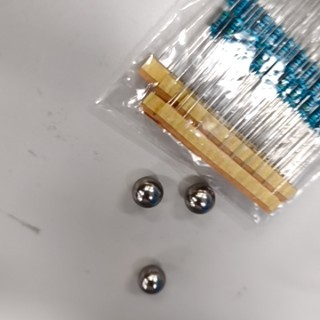ironball: (176, 174, 220, 221), (123, 169, 168, 212), (137, 253, 171, 297)
